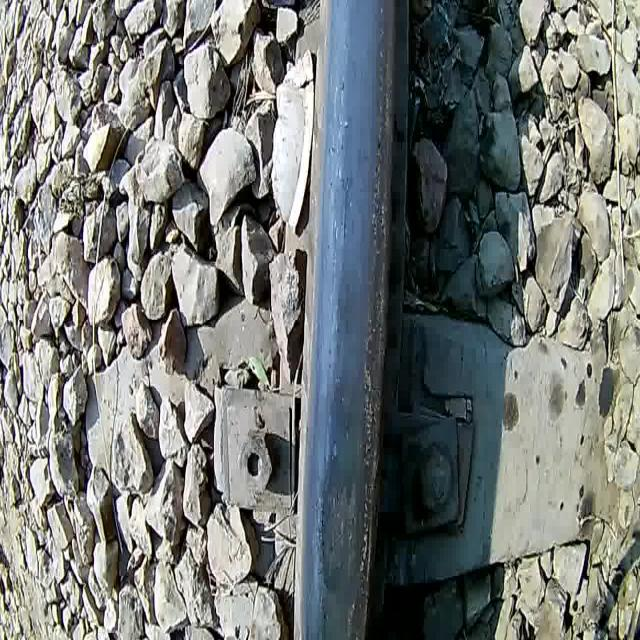Squats: (269, 0, 434, 640)
